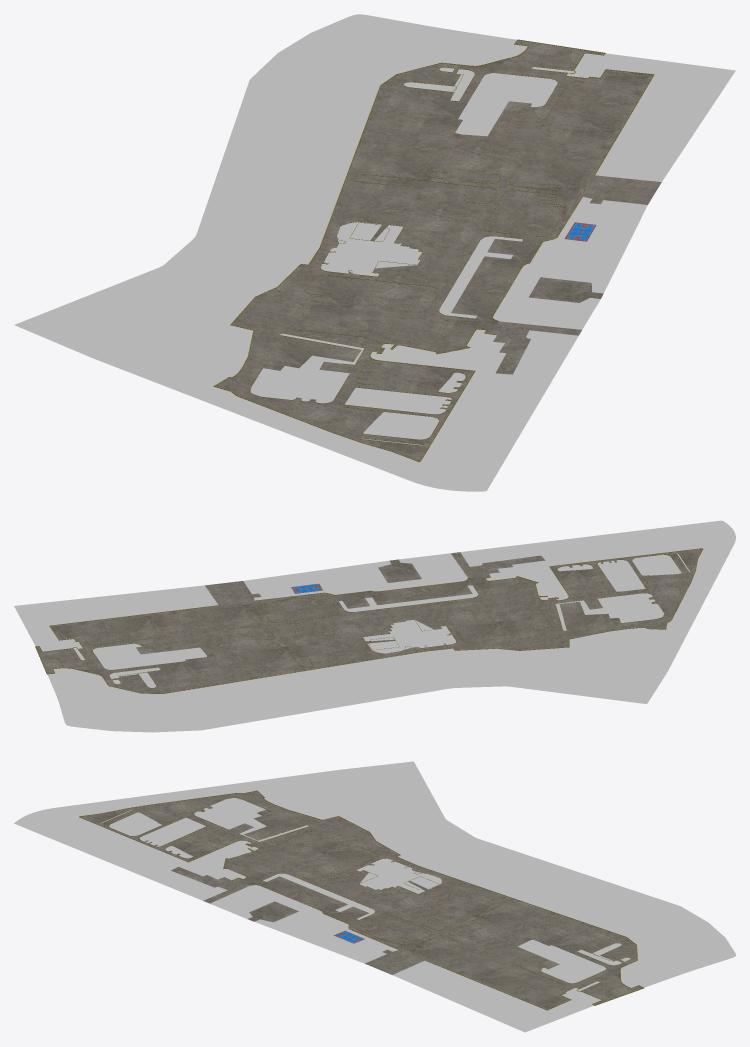
File: road_p11_01.fbx
The picture shows the model from 3 angles, top to bottom: view 1: azimuth 30°, elevation 25°; view 2: azimuth 150°, elevation 25°; view 3: azimuth 270°, elevation 25°; orthographic projection. The views are drawn at different scales.
Parts seen in each view (by area): view 1: road_p11_01; view 2: road_p11_01; view 3: road_p11_01.
Part boxes in pixels (<box>): road_p11_01: <box>14,14,735,491</box>; road_p11_01: <box>14,520,735,732</box>; road_p11_01: <box>14,761,735,1032</box>.
Bounding box in the file's own units: 73496 × 70.01 × 82696.
